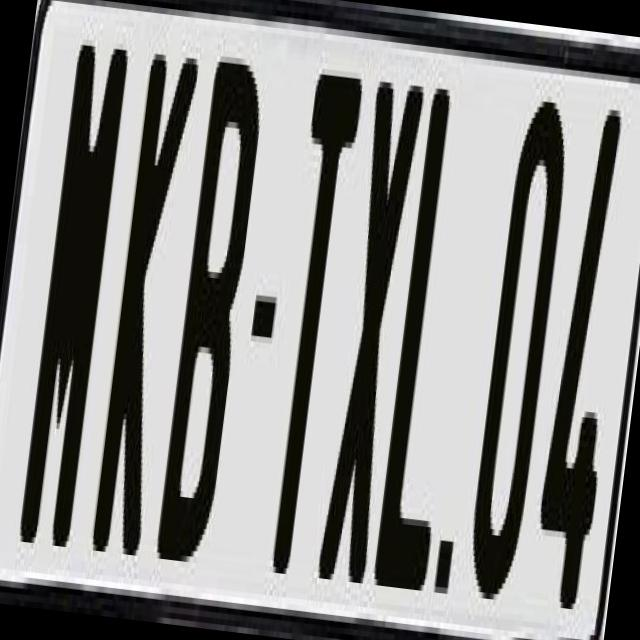0: (462, 82, 575, 608)
4: (524, 88, 640, 616)
B: (154, 61, 272, 570)
K: (88, 53, 199, 561)
L: (369, 70, 486, 603)
M: (13, 38, 136, 571)
T: (258, 57, 370, 564)
X: (314, 69, 434, 602)
